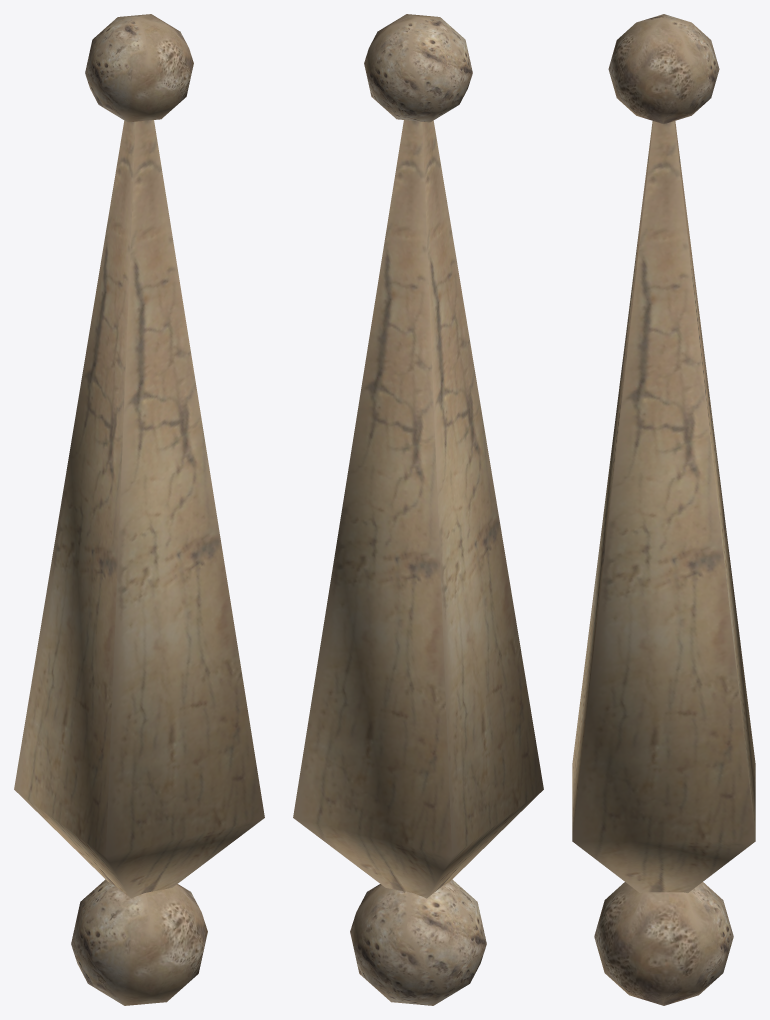
The model's file is AVATAR_BONE.fbx.
3 views of the same model, side by side, from view 1: azimuth 30°, elevation 25°; view 2: azimuth 150°, elevation 25°; view 3: azimuth 270°, elevation 25° (orthographic).
Parts seen in each view (by area): view 1: Cube.016; view 2: Cube.016; view 3: Cube.016.
Boxes of the visible parts, box(x1,y1,x2,y2) form: Cube.016: box(14, 14, 264, 1005); Cube.016: box(293, 14, 543, 1005); Cube.016: box(572, 14, 755, 1005).
Size of the model in its own units: 3.51 by 20.75 by 3.51.
